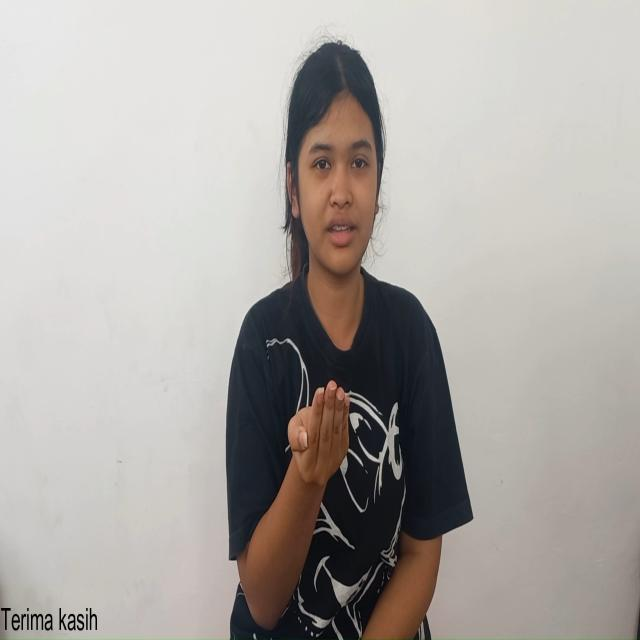Terima kasih -BISINDO-: (236, 378, 355, 628)
